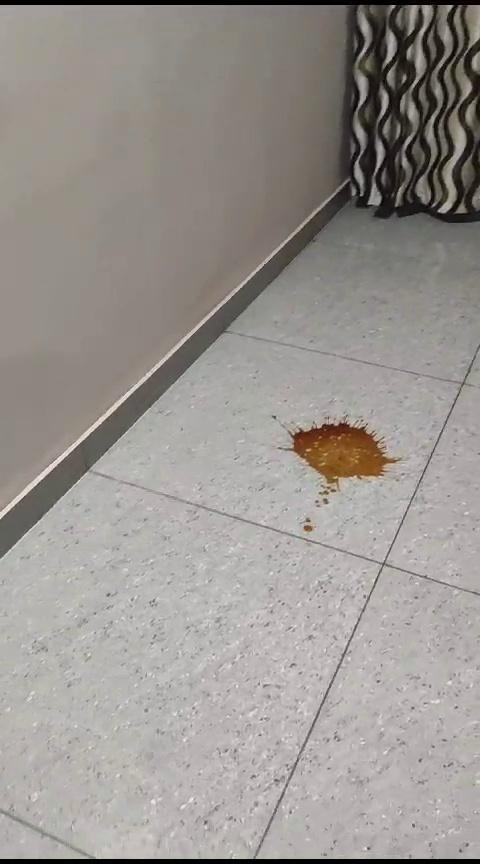dirty_floor: (277, 406, 408, 540)
